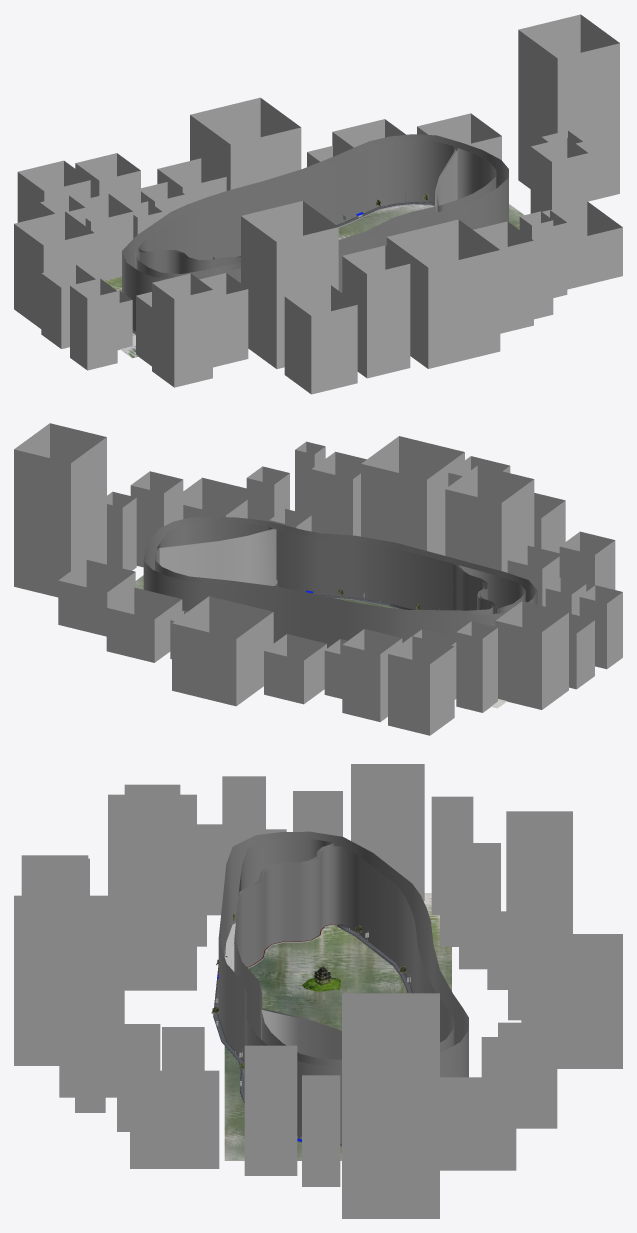
File: FBX_duong_dua_hanoi.FBX
3 views of the same model, one above another, from view 1: azimuth 30°, elevation 25°; view 2: azimuth 150°, elevation 25°; view 3: azimuth 270°, elevation 25° (orthographic). The views are drawn at different scales.
Visible parts, largest first — view 1: Bound, 016, 30, 33, 20, 32, 044, 35, 40, 28, 26, 27 (+17 smaller); view 2: Bound, 016, 30, 20, 33, 40, 24, 18, 23, 16, 31, 22 (+16 smaller); view 3: Bound, 016, 33, 20, 30, Plane001, 28, 40, 16, 27, 18, 31 (+18 smaller).
Boxes of the visible parts, x1,y1,x2,y2 form: Bound: [122, 134, 508, 330]; 016: [518, 14, 619, 201]; 30: [386, 219, 500, 368]; 33: [241, 201, 338, 368]; 20: [190, 97, 301, 190]; 32: [342, 245, 410, 378]; 044: [284, 285, 357, 394]; 35: [152, 273, 212, 387]; 40: [14, 211, 94, 328]; 28: [550, 201, 622, 289]; 26: [70, 278, 117, 370]; 27: [530, 137, 588, 213]; Bound: [143, 516, 537, 648]; 016: [14, 423, 106, 597]; 30: [361, 436, 464, 555]; 20: [172, 596, 273, 706]; 33: [445, 465, 534, 572]; 40: [495, 601, 568, 709]; 24: [388, 636, 454, 735]; 18: [106, 587, 182, 662]; 23: [342, 629, 402, 722]; 16: [58, 560, 135, 636]; 31: [311, 451, 366, 536]; 22: [264, 634, 326, 704]; Bound: [218, 831, 468, 1143]; 016: [342, 993, 439, 1218]; 33: [108, 794, 196, 990]; 20: [521, 934, 622, 1068]; 30: [14, 895, 117, 1065]; Plane001: [224, 893, 451, 1160]; 28: [130, 1070, 219, 1168]; 40: [351, 764, 424, 900]; 16: [440, 1077, 516, 1170]; 27: [244, 1045, 297, 1175]; 18: [481, 1037, 557, 1128]; 31: [59, 964, 124, 1097].
Size of the model in its own units: 1056 by 266 by 770.
